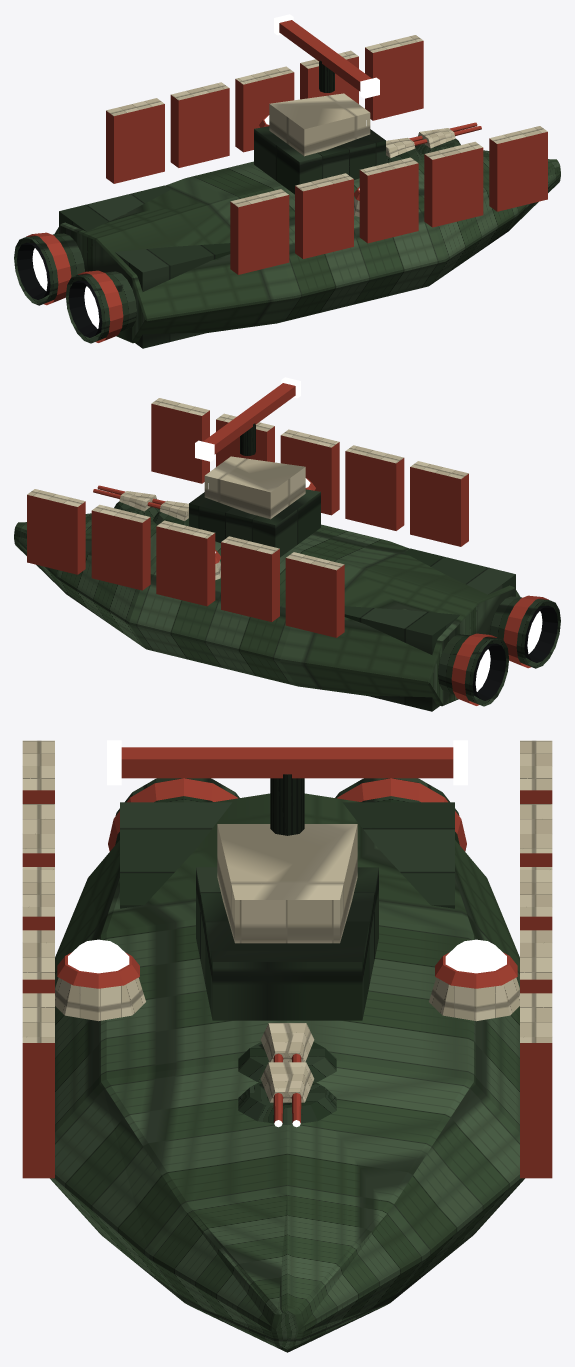
The model's file is command_ship.glb.
The picture shows the model from 3 angles, top to bottom: view 1: azimuth 30°, elevation 25°; view 2: azimuth 150°, elevation 25°; view 3: azimuth 270°, elevation 25°; orthographic projection. The views are drawn at different scales.
Parts seen in each view (by area): view 1: hull_body, engine_block, sensor_tower, weapon_turrets; view 2: hull_body, engine_block, sensor_tower, weapon_turrets; view 3: hull_body, sensor_tower, engine_block, shield_domes, weapon_turrets.
Boxes of the visible parts, x1,y1,x2,y2 form: hull_body: (54,35,560,343); engine_block: (14,185,230,348); sensor_tower: (254,14,385,194); weapon_turrets: (386,122,481,163); hull_body: (14,398,520,706); engine_block: (344,548,560,711); sensor_tower: (189,377,320,557); weapon_turrets: (93,485,188,526); hull_body: (22,740,552,1352); sensor_tower: (107,740,467,1020); engine_block: (108,778,466,908); shield_domes: (55,939,519,1021); weapon_turrets: (238,1023,336,1127).
Bounding box in the file's own units: 56 × 24.71 × 25.67.
Materials: 1 (1 with a texture image).
